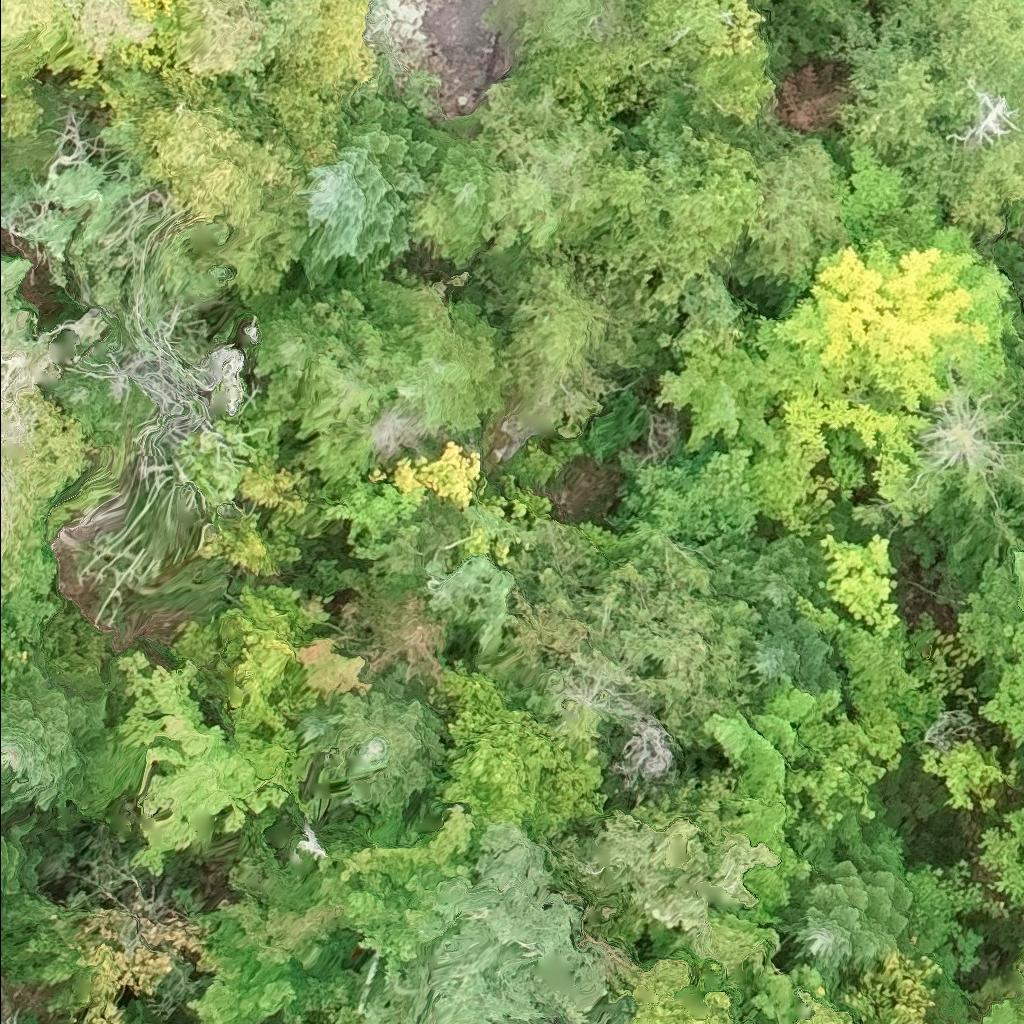crown: (752, 222, 1018, 503), (831, 0, 1023, 248), (293, 87, 449, 288), (470, 78, 628, 250), (732, 139, 847, 288), (779, 854, 913, 973), (512, 243, 615, 370), (418, 137, 493, 264), (750, 586, 840, 689), (489, 0, 631, 60), (753, 0, 769, 4)
